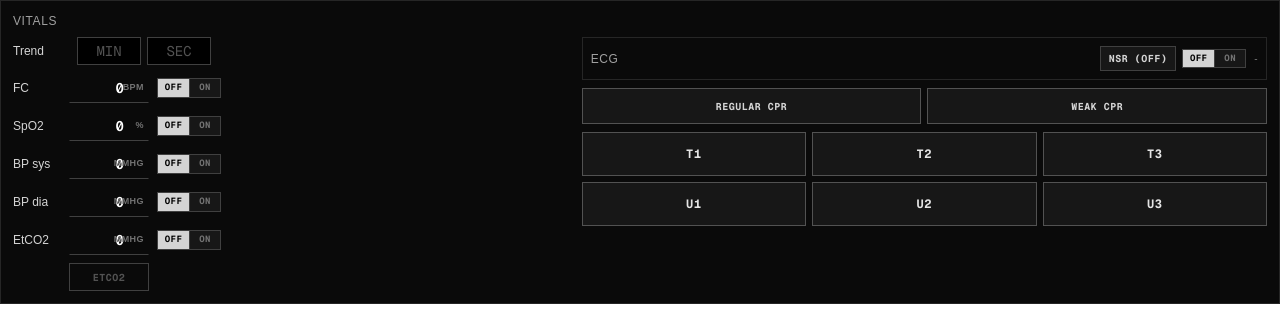
VitalsControls › locks the fused FC value when the draft rhythm owns FC
Click the button "NSR (Off)": {"x": 1138, "y": 58} [1100, 46, 1176, 71]
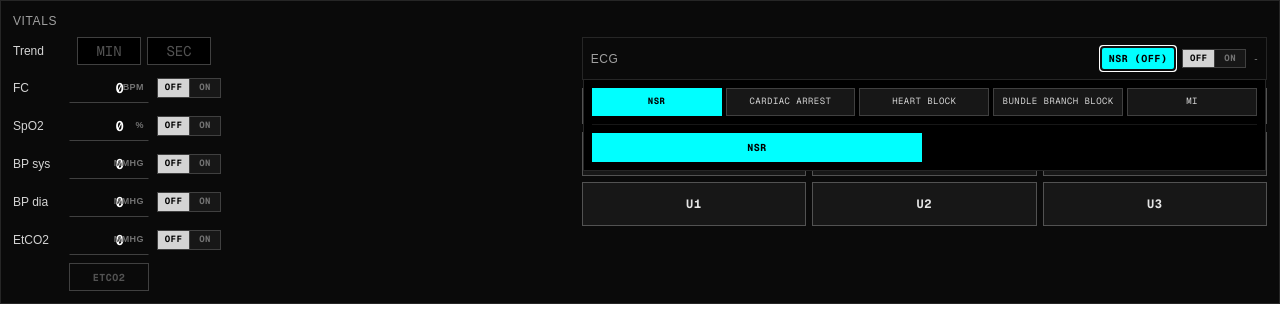
Click the button "Cardiac Arrest": {"x": 790, "y": 102} [726, 88, 855, 116]
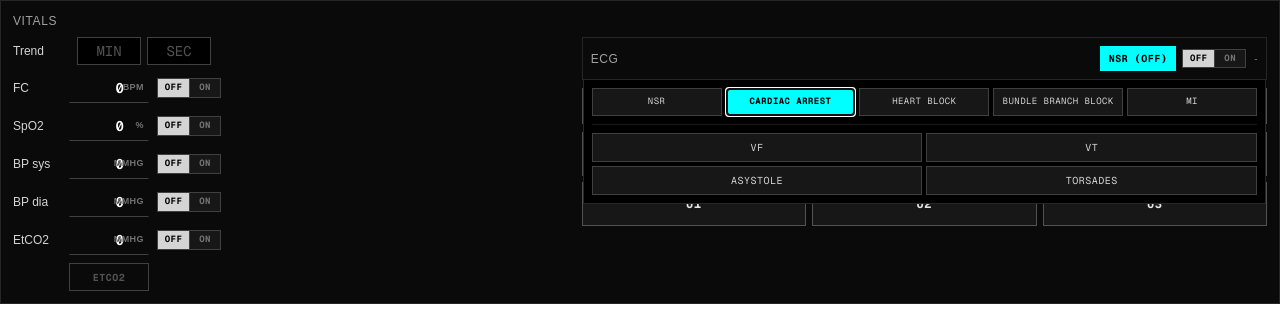
Click the button "Asystole": {"x": 757, "y": 180} [592, 166, 922, 194]
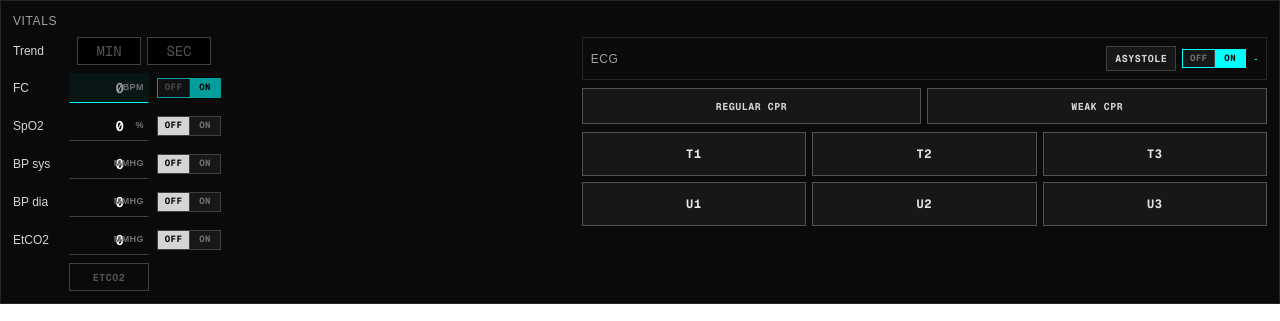
Check: the number field labelled "SpO2" is enabled, box [70, 112, 148, 140]
Check: the field labelled "FC" is disabled, box [70, 74, 148, 102]
